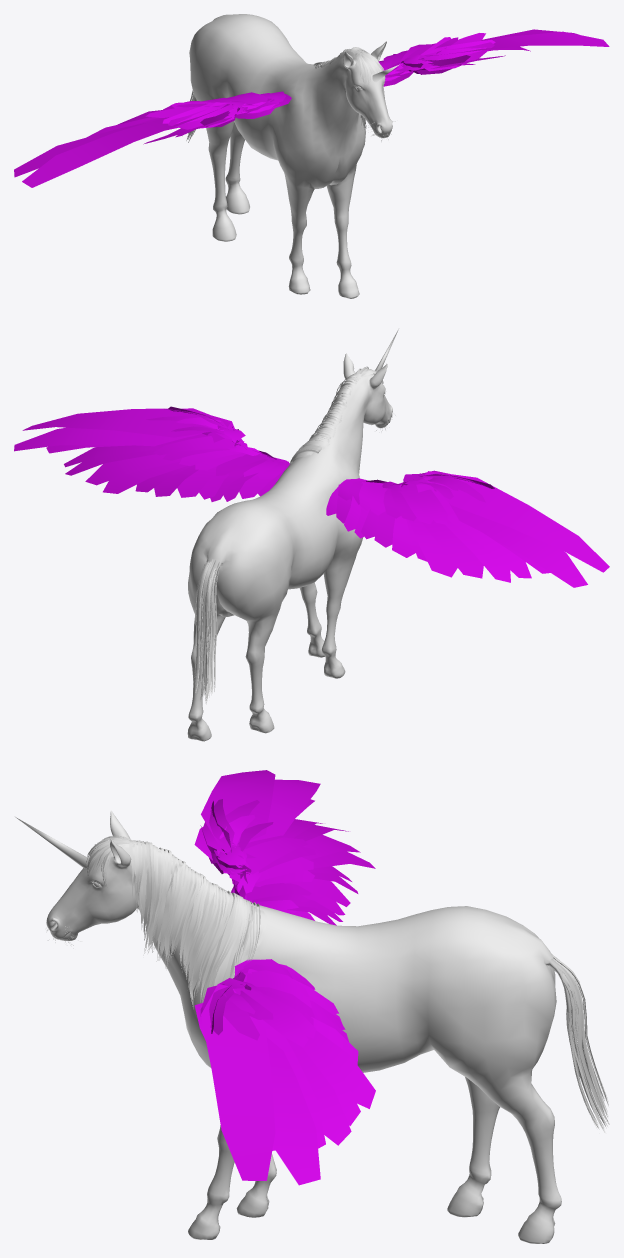
The model's file is UNICORN_LP.fbx.
3 renders of one model, top to bottom at view 1: azimuth 30°, elevation 25°; view 2: azimuth 150°, elevation 25°; view 3: azimuth 270°, elevation 25°, orthographic. The views are drawn at different scales.
Visible parts, largest first — view 1: unicorn.002, unicorn.003; view 2: unicorn.003, unicorn.002; view 3: unicorn.002, unicorn.003.
Boxes of the visible parts, x1,y1,x2,y2 form: unicorn.002: (186, 14, 399, 298); unicorn.003: (14, 29, 609, 187); unicorn.003: (14, 406, 609, 587); unicorn.002: (187, 329, 398, 741); unicorn.002: (15, 810, 609, 1243); unicorn.003: (194, 770, 375, 1185).
Bounding box in the file's own units: 499 × 231 × 306.
